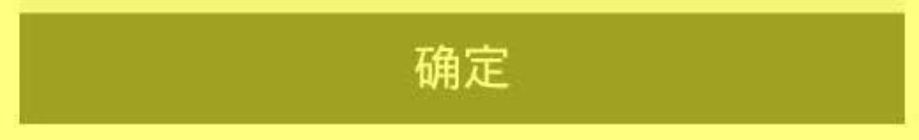Button: (1, 1, 918, 139)
